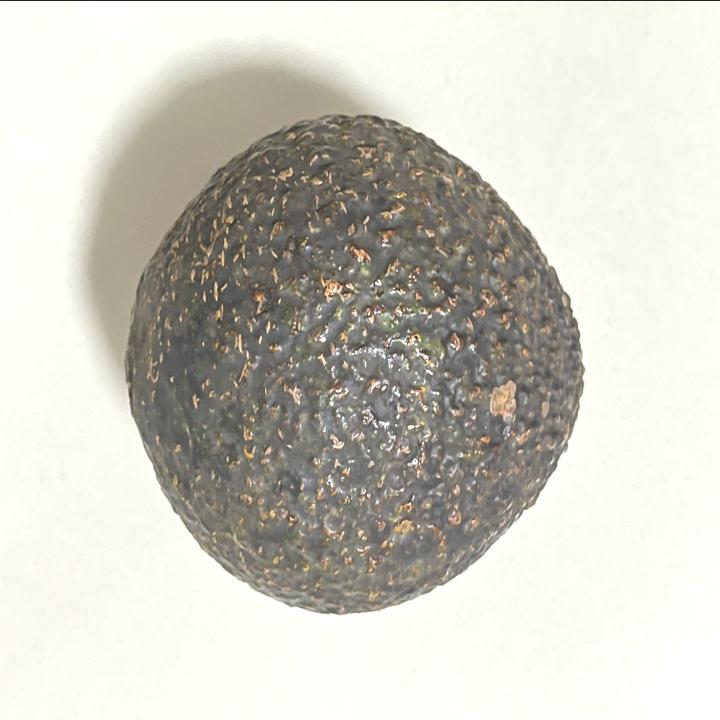Level2: (117, 105, 595, 625)
